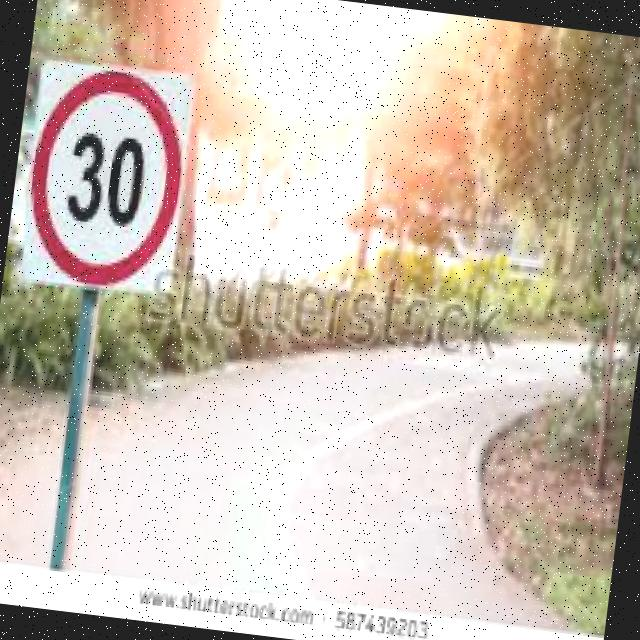Ograniczenie predkosci do 30: (23, 62, 197, 290)
